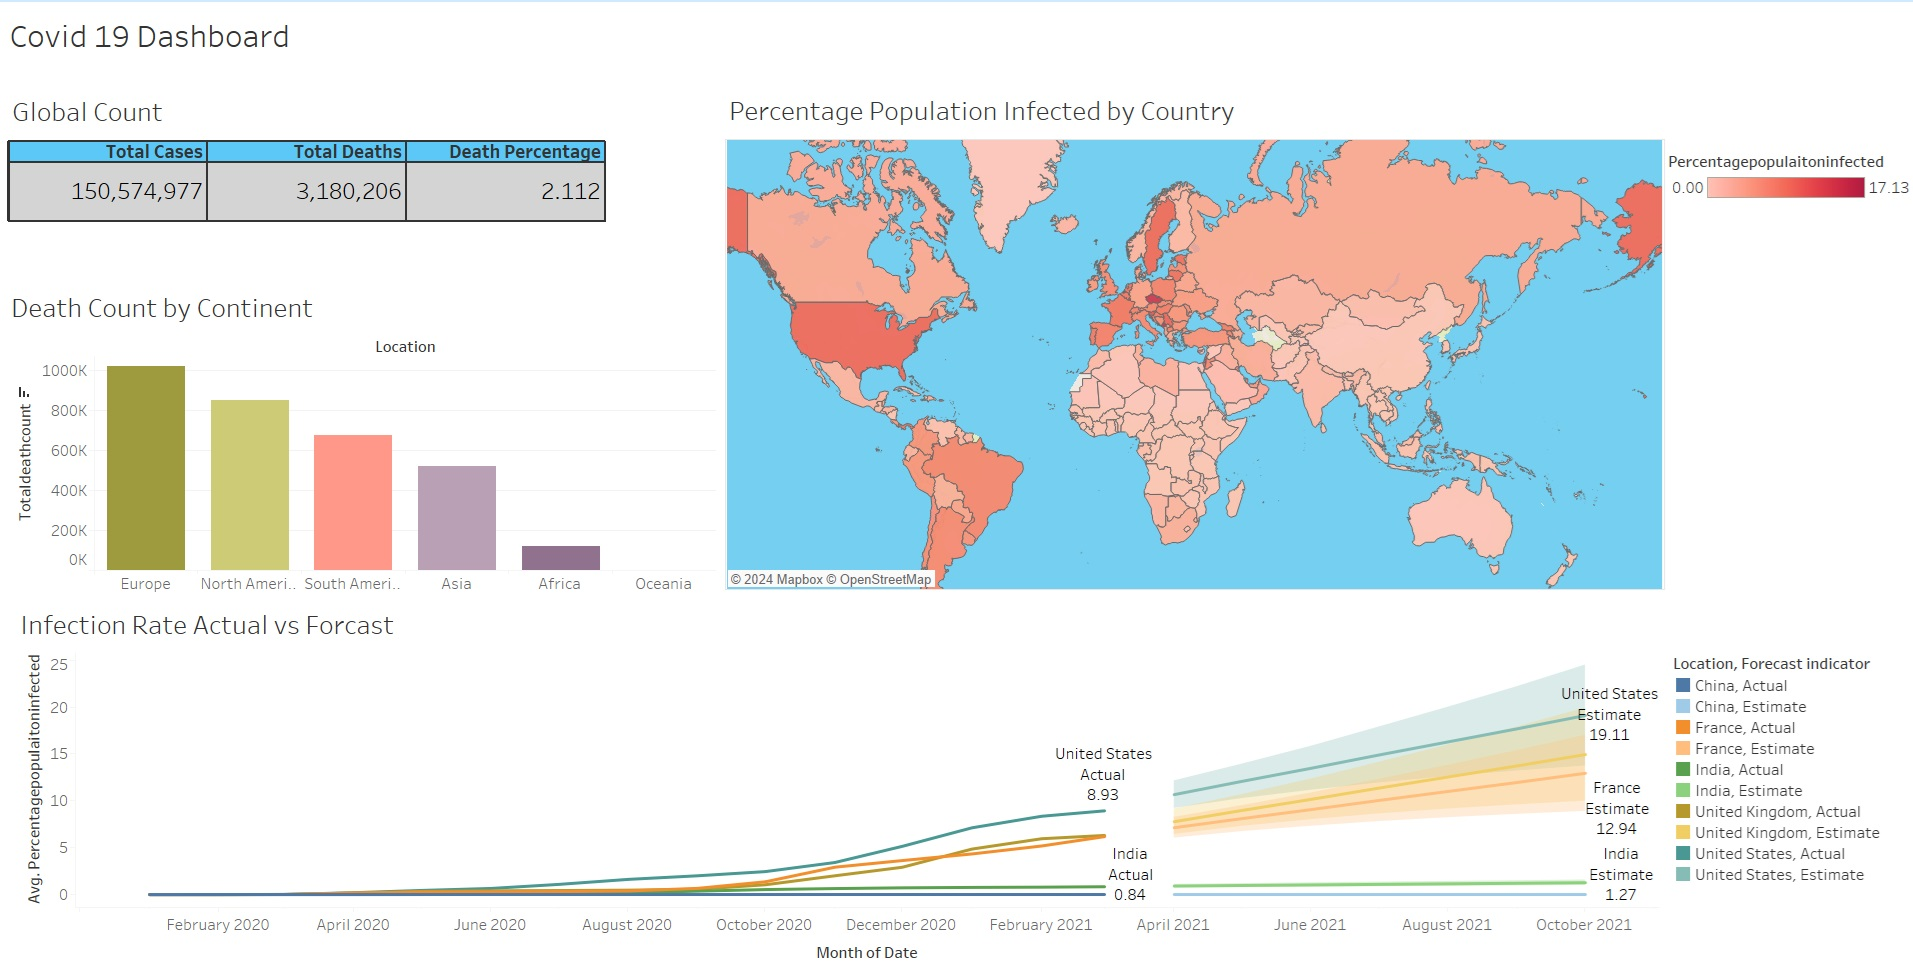

The page's visual inventory and layout, read from the dashboard file:
{"tool":"tableau","page":{"name":"Dashboard 1","canvas":[1000,1000],"units":"permille","ordinal":0},"visuals":[{"type":"title","box":[4.8,10,990.3,62.4]},{"type":"worksheet","title":"Sheet 3","mark":"Automatic","box":[380.8,87.4,489.4,504.4]},{"type":"worksheet","title":"Sheet 1","mark":"Automatic","box":[6.6,88.6,369.3,184.8]},{"type":"legend","title":"Sheet 3","param":"[federated.1n8yv900x7m518193mv6s0w7pzre].[sum:Percentagepopulaitoninfected:qk]","box":[872.1,149.8,127.9,109.9]},{"type":"worksheet","title":"Sheet 2","mark":"Automatic","rows":["totaldeathcount"],"cols":["location"],"box":[6.6,285.9,369.3,310.9]},{"type":"worksheet","title":"Sheet 4","mark":"Automatic","rows":["Percentagepopulaitoninfected"],"cols":["date"],"box":[11.5,605.5,855.8,379.5]},{"type":"legend","title":"Sheet 4","param":"[federated.0h5jp0y0rdyufr1bzpi3i0pzeedi].[none:location:nk]\n[federated.0h5jp0y0r","box":[874.5,655.4,120.1,337.1]}]}

Visuals, with their boxes on the dashboard's canvas, which has no fixed pixel size, in thousandths of its width and height (x1, y1, x2, y2). These are canvas units, not pixel positions in the 1913x976 screenshot, which may show the page scaled, cropped or inside an application window:
title: x1=5, y1=10, x2=995, y2=72
"Sheet 3" worksheet: x1=381, y1=87, x2=870, y2=592
"Sheet 1" worksheet: x1=7, y1=89, x2=376, y2=273
"Sheet 3" legend: x1=872, y1=150, x2=1000, y2=260
"Sheet 2" worksheet: x1=7, y1=286, x2=376, y2=597
"Sheet 4" worksheet: x1=12, y1=606, x2=867, y2=985
"Sheet 4" legend: x1=874, y1=655, x2=995, y2=992
